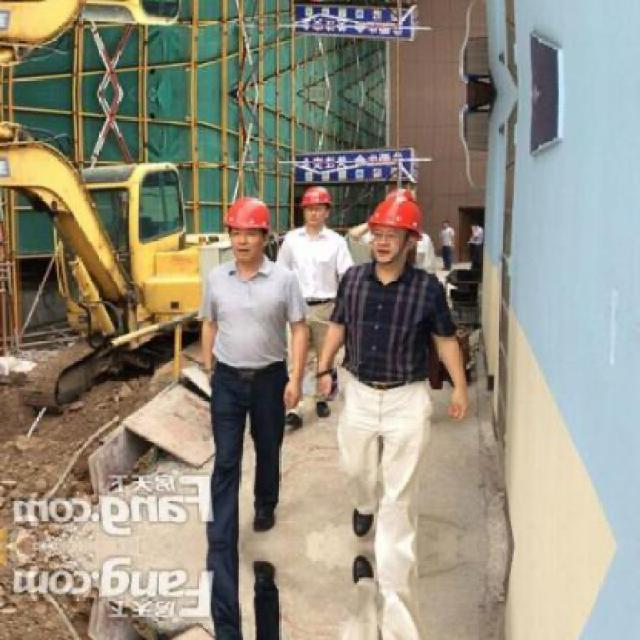con casco: (334, 182, 436, 288), (291, 139, 351, 250), (210, 197, 286, 279)
